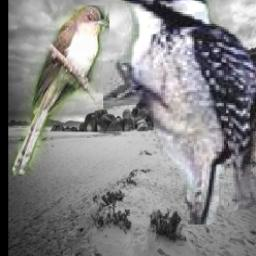Cuckoo: (10, 7, 109, 177)
Woodpecker: (104, 0, 256, 225)
